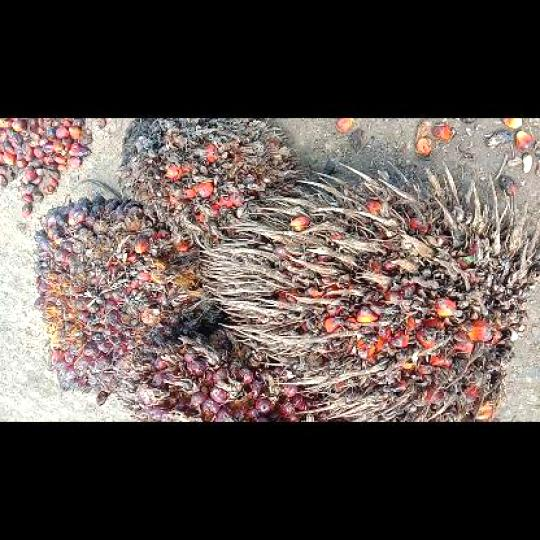masak: (33, 194, 221, 403), (118, 329, 334, 421)
terlalu masak: (199, 164, 538, 420), (116, 118, 297, 244)
